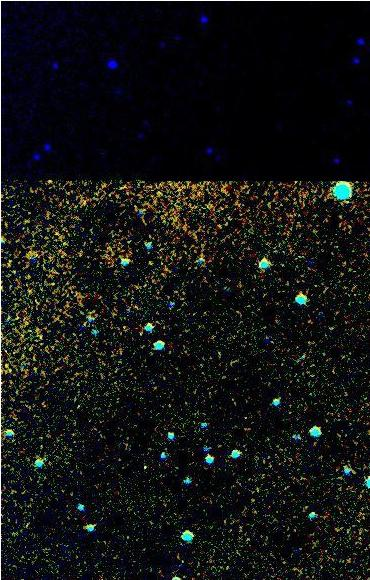star: (128, 453, 158, 483)
